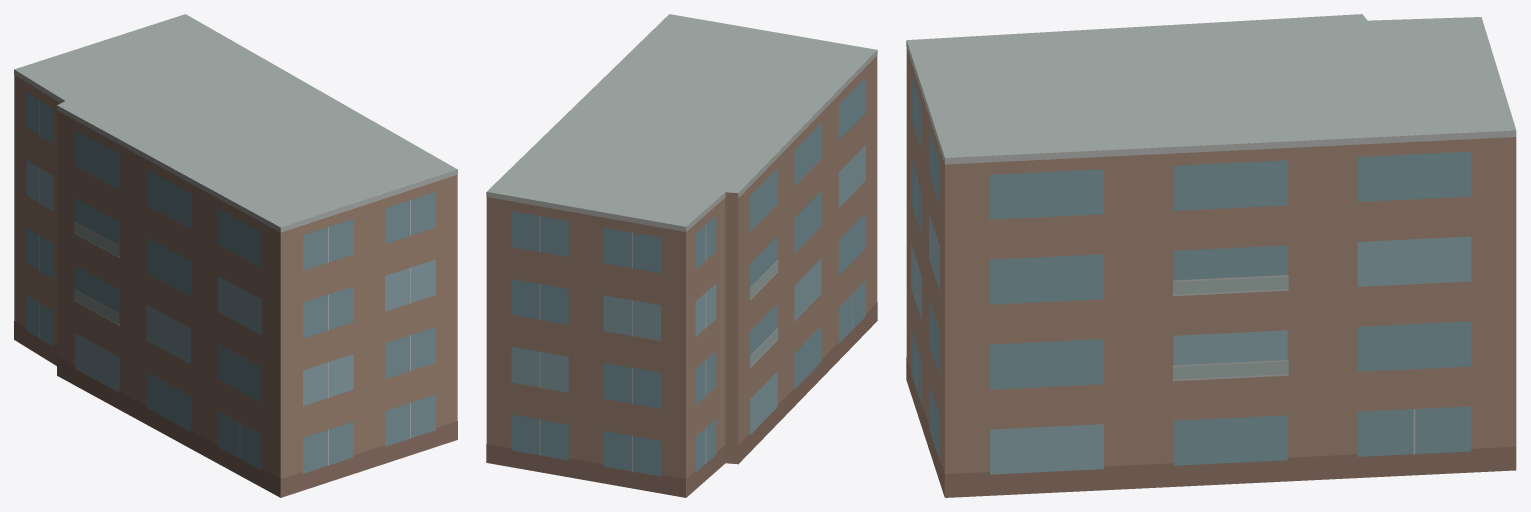
The model's file is survey-upis-32610801.glb.
3 renders of one model, left to right at view 1: azimuth 30°, elevation 25°; view 2: azimuth 150°, elevation 25°; view 3: azimuth 270°, elevation 25°, orthographic. The views are drawn at different scales.
Visible parts, largest first — view 1: survey-upis-32610801.tmp; view 2: survey-upis-32610801.tmp; view 3: survey-upis-32610801.tmp.
Part boxes in pixels (x1,y1,x2,y2): survey-upis-32610801.tmp: (14,14,457,497); survey-upis-32610801.tmp: (486,14,877,497); survey-upis-32610801.tmp: (906,14,1516,497).
Bounding box in the file's own units: 11.65 × 12.8 × 20.83.
